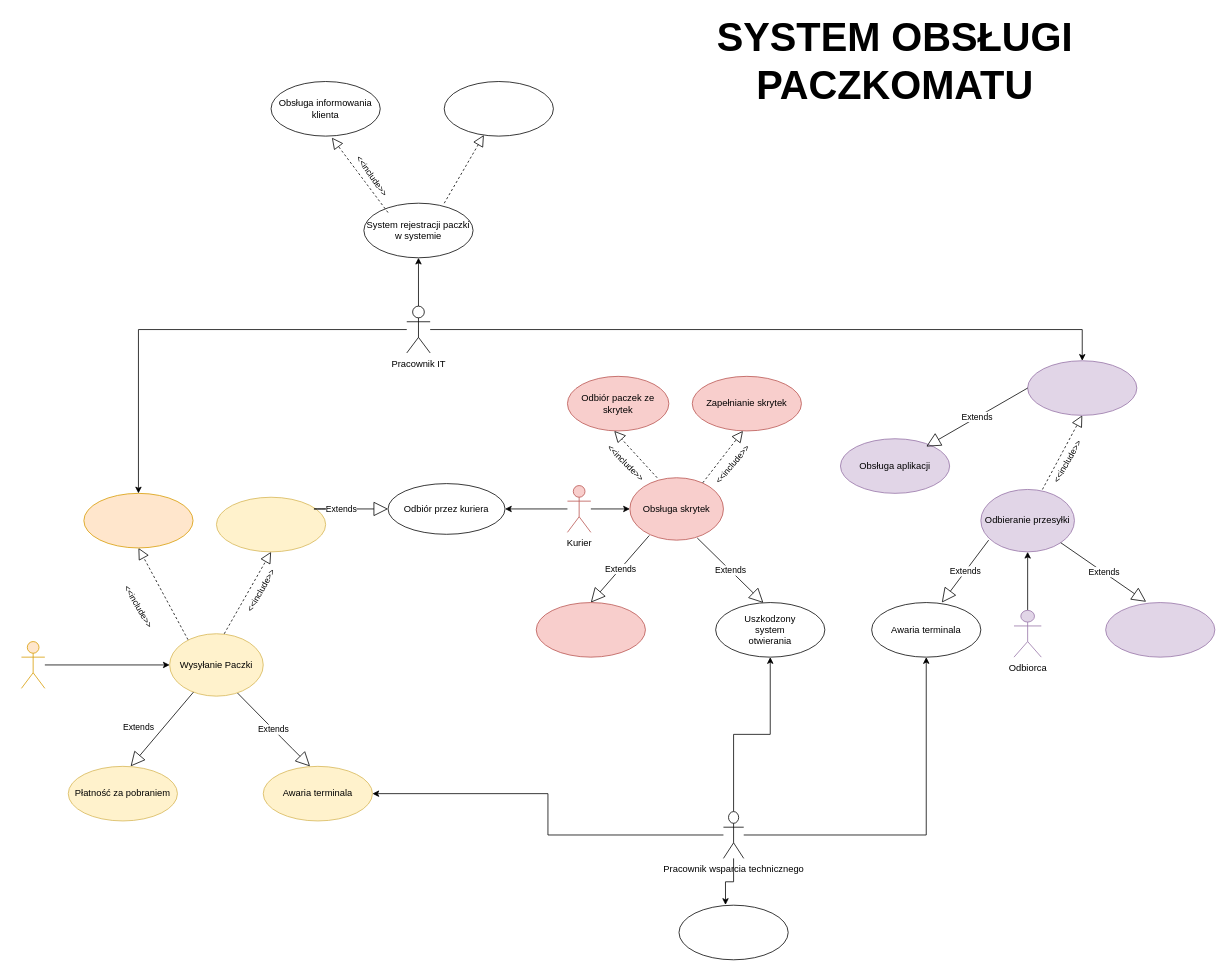
The diagram is 1229 pixels wide and 973 high, and some of its shapes have lost their labels. Here are the shapes that lost their labels. From the top down, the centre of each, then its label:
[498,108]: Wyznaczenie trasy paczki , informacje dla kurierów
[1082,387]: Połączenie z system obsługi Paczkomatu
[138,520]: Generacja listu przewozowego
[271,524]: Nadanie przesyłki
[590,629]: Odbiór paczek nieodebranych w terminie
[1160,629]: Odbiór kilku paczek
[33,664]: Nadawca
[733,932]: Zgłaszanie usterek do techników
